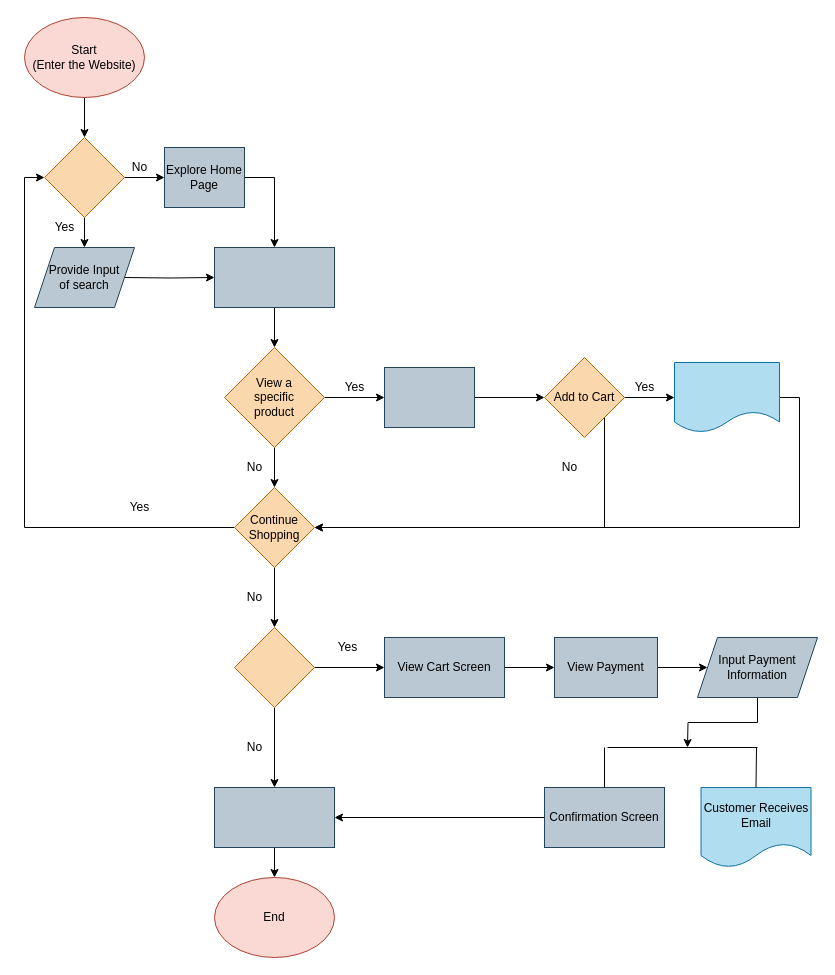
This 835x975 diagram has some shape labels left out. Each missing label, with the centre of its shape:
Added to Cart Confirmation: point 727,397
Checkout: point 274,667
Leave Website: point 274,817
Look over products: point 274,277
Product Webpage Opens: point 429,397
Search for Product: point 84,177
